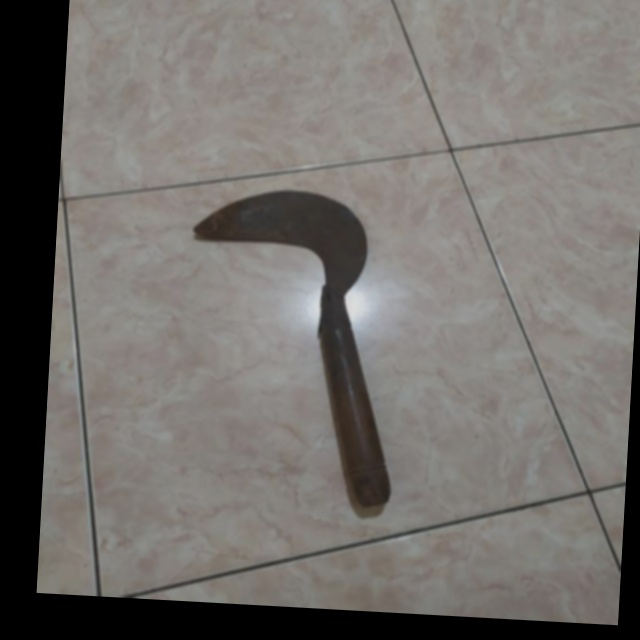Sharp-Object: (171, 164, 408, 531)
